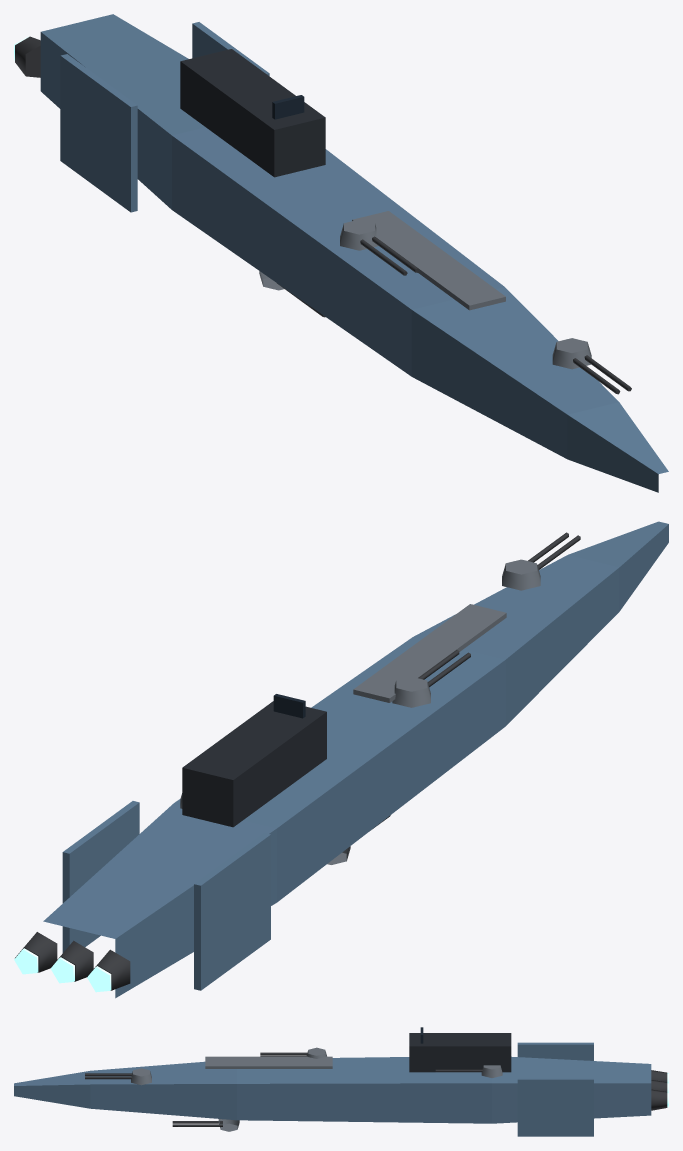
Rendered from space_ship_frigate_mk5_lod1.glb.
3 views of the same model, one above another, from view 1: azimuth 30°, elevation 25°; view 2: azimuth 150°, elevation 25°; view 3: azimuth 270°, elevation 25° (orthographic). The views are drawn at different scales.
Parts seen in each view (by area): view 1: body, turret_0, turret_2, engine_0; view 2: body, turret_0, turret_2, engine_0, engine_2, engine_1; view 3: body, turret_0, turret_1, turret_4, turret_2, engine_2.
Boxes of the visible parts, <box> form: body: <box>40,14,668,492</box>; turret_0: <box>552,338,631,394</box>; turret_2: <box>340,219,418,275</box>; engine_0: <box>14,36,40,77</box>; body: <box>43,521,668,998</box>; turret_0: <box>502,532,580,590</box>; turret_2: <box>392,650,470,707</box>; engine_0: <box>87,949,130,992</box>; engine_2: <box>14,932,57,974</box>; engine_1: <box>50,940,93,983</box>; body: <box>14,1027,651,1136</box>; turret_0: <box>85,1068,151,1085</box>; turret_1: <box>172,1119,239,1131</box>; turret_4: <box>435,1065,502,1077</box>; turret_2: <box>260,1047,326,1058</box>; engine_2: <box>651,1089,668,1110</box>.
Bounding box in the file's own units: 6.06 × 6.91 × 45.62.
